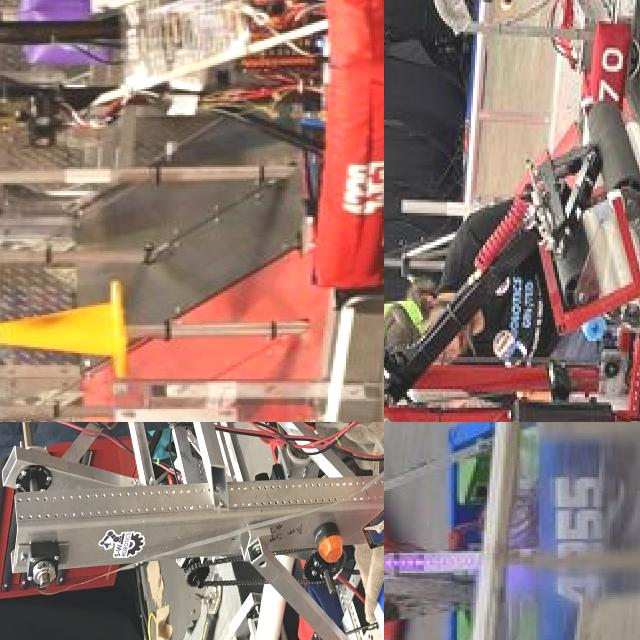FRC-Robots: (0, 0, 384, 392), (384, 19, 640, 422), (0, 422, 384, 640), (384, 422, 619, 640), (417, 0, 640, 110)
